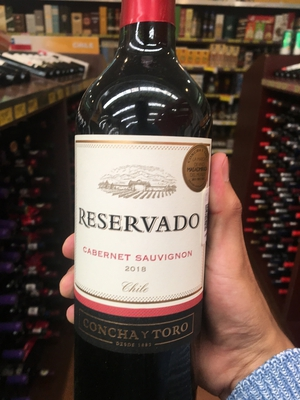reservado cabernet sauvignon: (71, 26, 215, 400)
